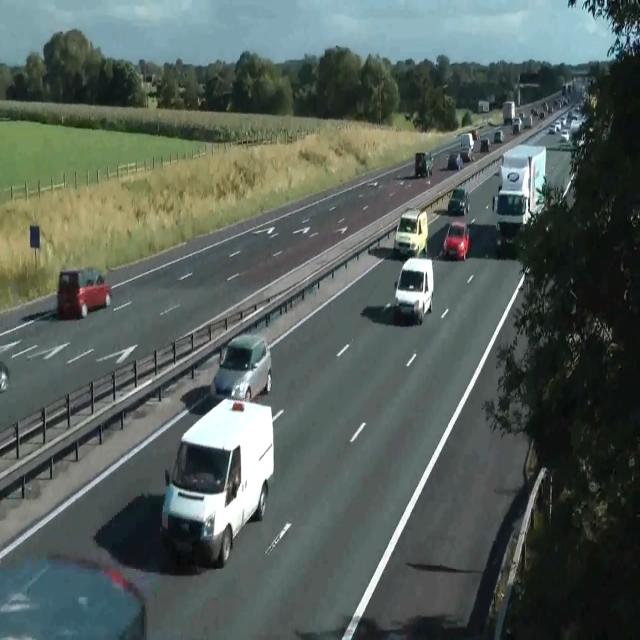bus: (448, 187, 470, 215), (446, 152, 463, 170), (0, 360, 9, 392), (460, 146, 474, 162), (479, 138, 491, 153), (494, 129, 504, 143), (561, 128, 569, 141), (547, 125, 557, 134)
jeep: (160, 396, 274, 567), (211, 332, 273, 402), (56, 266, 112, 319), (394, 256, 434, 324), (492, 188, 528, 249), (393, 207, 428, 256), (443, 220, 469, 260), (414, 151, 433, 177)
minibus: (492, 144, 546, 250), (502, 100, 514, 124), (460, 132, 474, 150), (518, 112, 532, 129), (477, 99, 489, 113), (512, 118, 522, 134)
